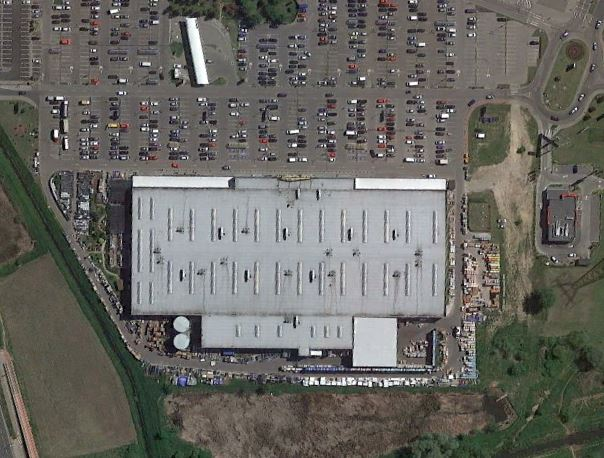shopping_center: (120, 172, 449, 372)
